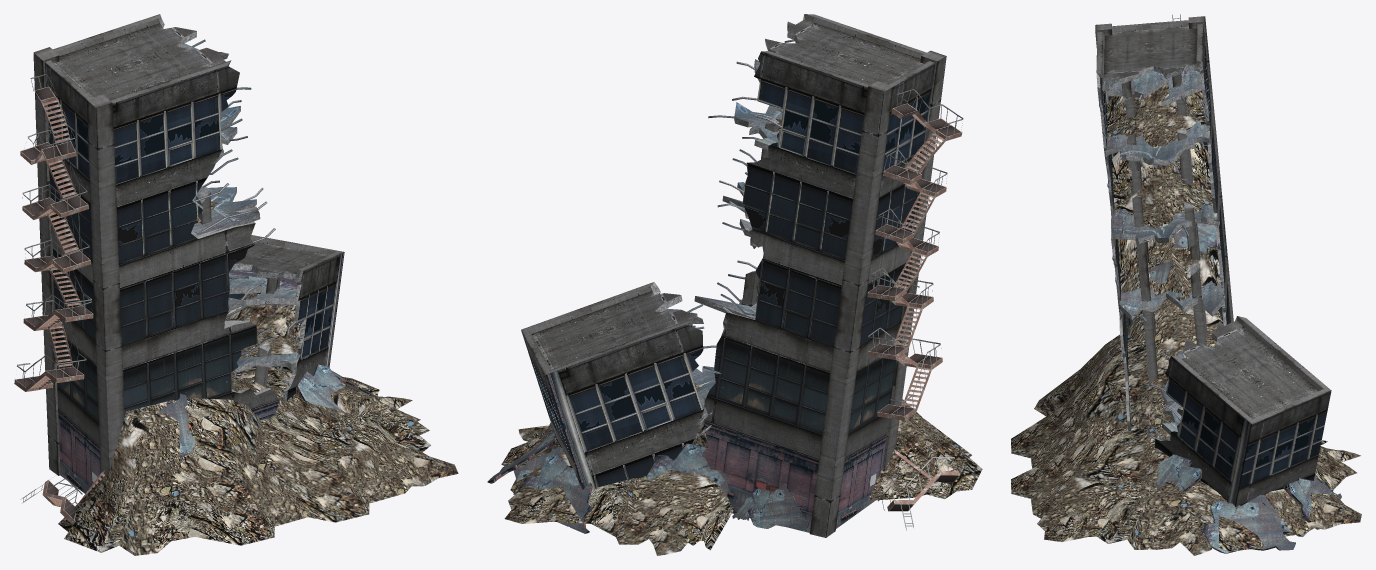
The model's file is collapsed_industrial.dae.
3 renders of one model, left to right at view 1: azimuth 30°, elevation 25°; view 2: azimuth 150°, elevation 25°; view 3: azimuth 270°, elevation 25°, orthographic. The views are drawn at different scales.
Visible parts, largest first — view 1: Destroyed_Industrial; view 2: Destroyed_Industrial; view 3: Destroyed_Industrial.
Boxes of the visible parts, left/top/right/bottom form: Destroyed_Industrial: left=14, top=14, right=458, bottom=555; Destroyed_Industrial: left=487, top=14, right=982, bottom=555; Destroyed_Industrial: left=1011, top=14, right=1361, bottom=555.
Size of the model in its own units: 910 by 776 by 962.
3 materials, 3 textured.
